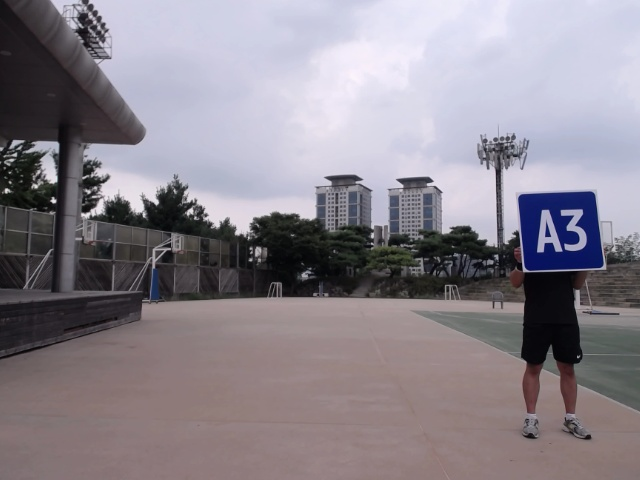delivery_a3: (517, 190, 606, 271)
